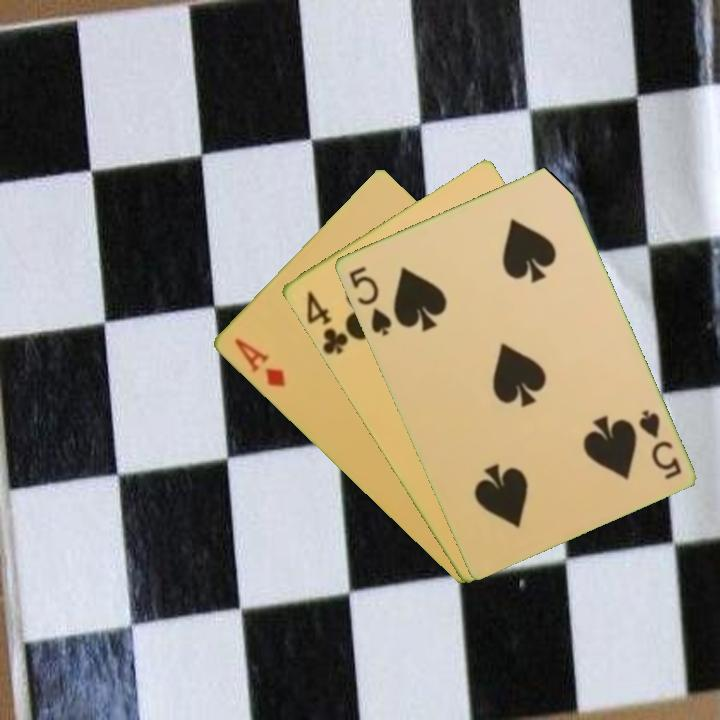4c: (302, 287, 354, 358)
5s: (344, 262, 395, 339), (634, 405, 684, 482)
Ad: (230, 334, 288, 390)
